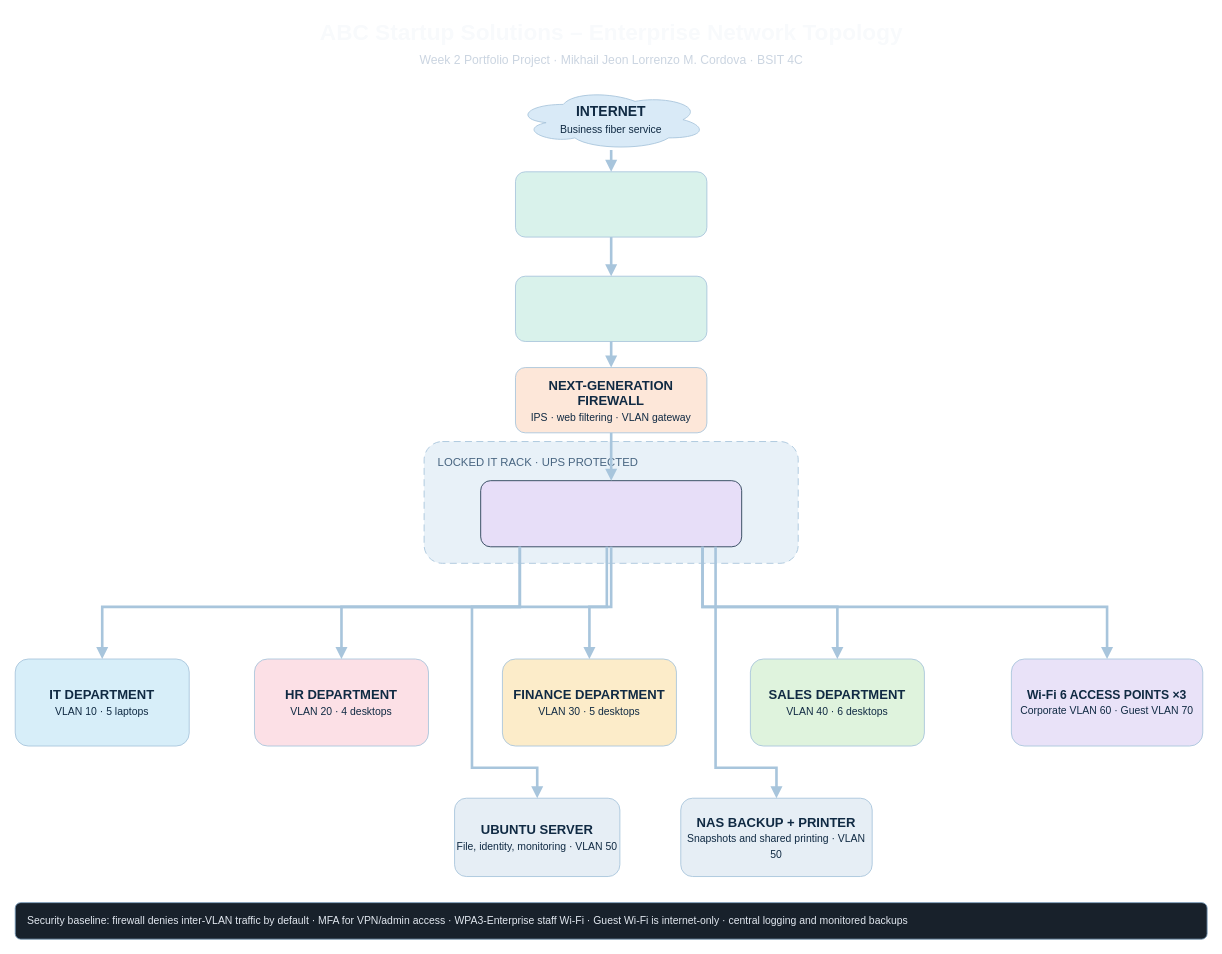
Image size: 1222x954. Some labels were removed from this diagram. The shapes that lost their labels are listed below. From the top down, each one's centre as x and y in pixels, then its label:
At pixel 611 204: "ISP MODEM / ONT Fiber termination".
At pixel 611 308: "EDGE ROUTER Dual-WAN and VPN capable".
At pixel 611 513: "48-PORT MANAGED PoE+ SWITCH VLAN-capable core access switch".
